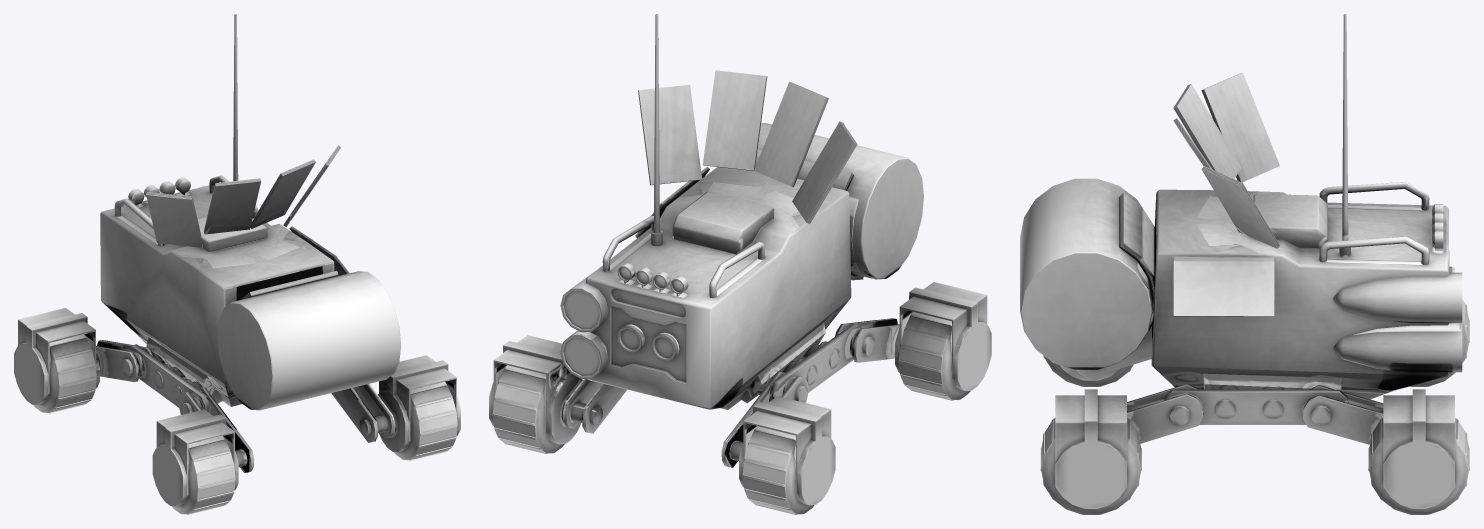
File: Rover.DAE
3 views of the same model, side by side, from view 1: azimuth 30°, elevation 25°; view 2: azimuth 150°, elevation 25°; view 3: azimuth 270°, elevation 25° (orthographic). The views are drawn at different scales.
Visible parts, largest first — view 1: marti_factory, object 5, Cylinder031, Cylinder043; view 2: marti_factory, object 5, Cylinder031; view 3: marti_factory, object 5, object 4, Cylinder043, Cylinder031.
Part boxes in pixels (x1=…): marti_factory: x1=14, y1=14, x2=460, y2=514; object 5: x1=146, y1=145, x2=341, y2=247; Cylinder031: x1=33, y1=334, x2=96, y2=413; Cylinder043: x1=394, y1=382, x2=457, y2=460; marti_factory: x1=489, y1=14, x2=991, y2=505; object 5: x1=638, y1=70, x2=857, y2=224; Cylinder031: x1=742, y1=426, x2=814, y2=514; marti_factory: x1=1020, y1=14, x2=1469, y2=514; object 5: x1=1173, y1=72, x2=1279, y2=248; object 4: x1=1173, y1=261, x2=1274, y2=316; Cylinder043: x1=1040, y1=418, x2=1141, y2=514; Cylinder031: x1=1409, y1=299, x2=1469, y2=386.
Bounding box in the file's own units: 2.17 × 2.58 × 2.83.
1 material, 1 textured.
